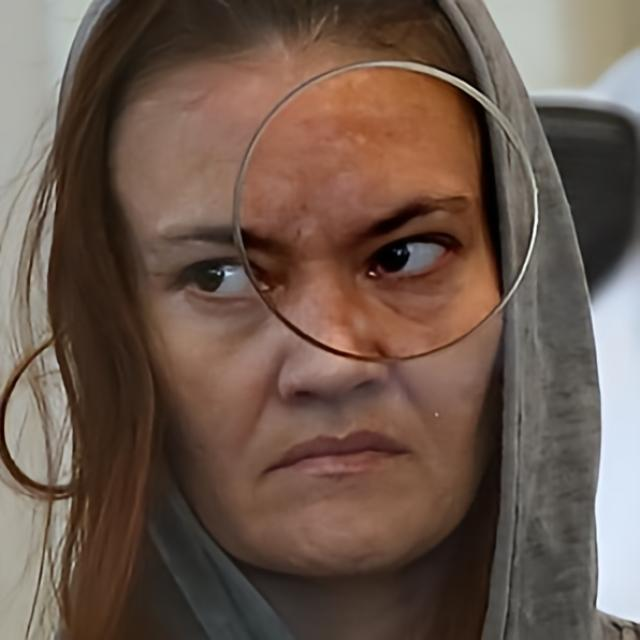disgust: (110, 3, 506, 583)
